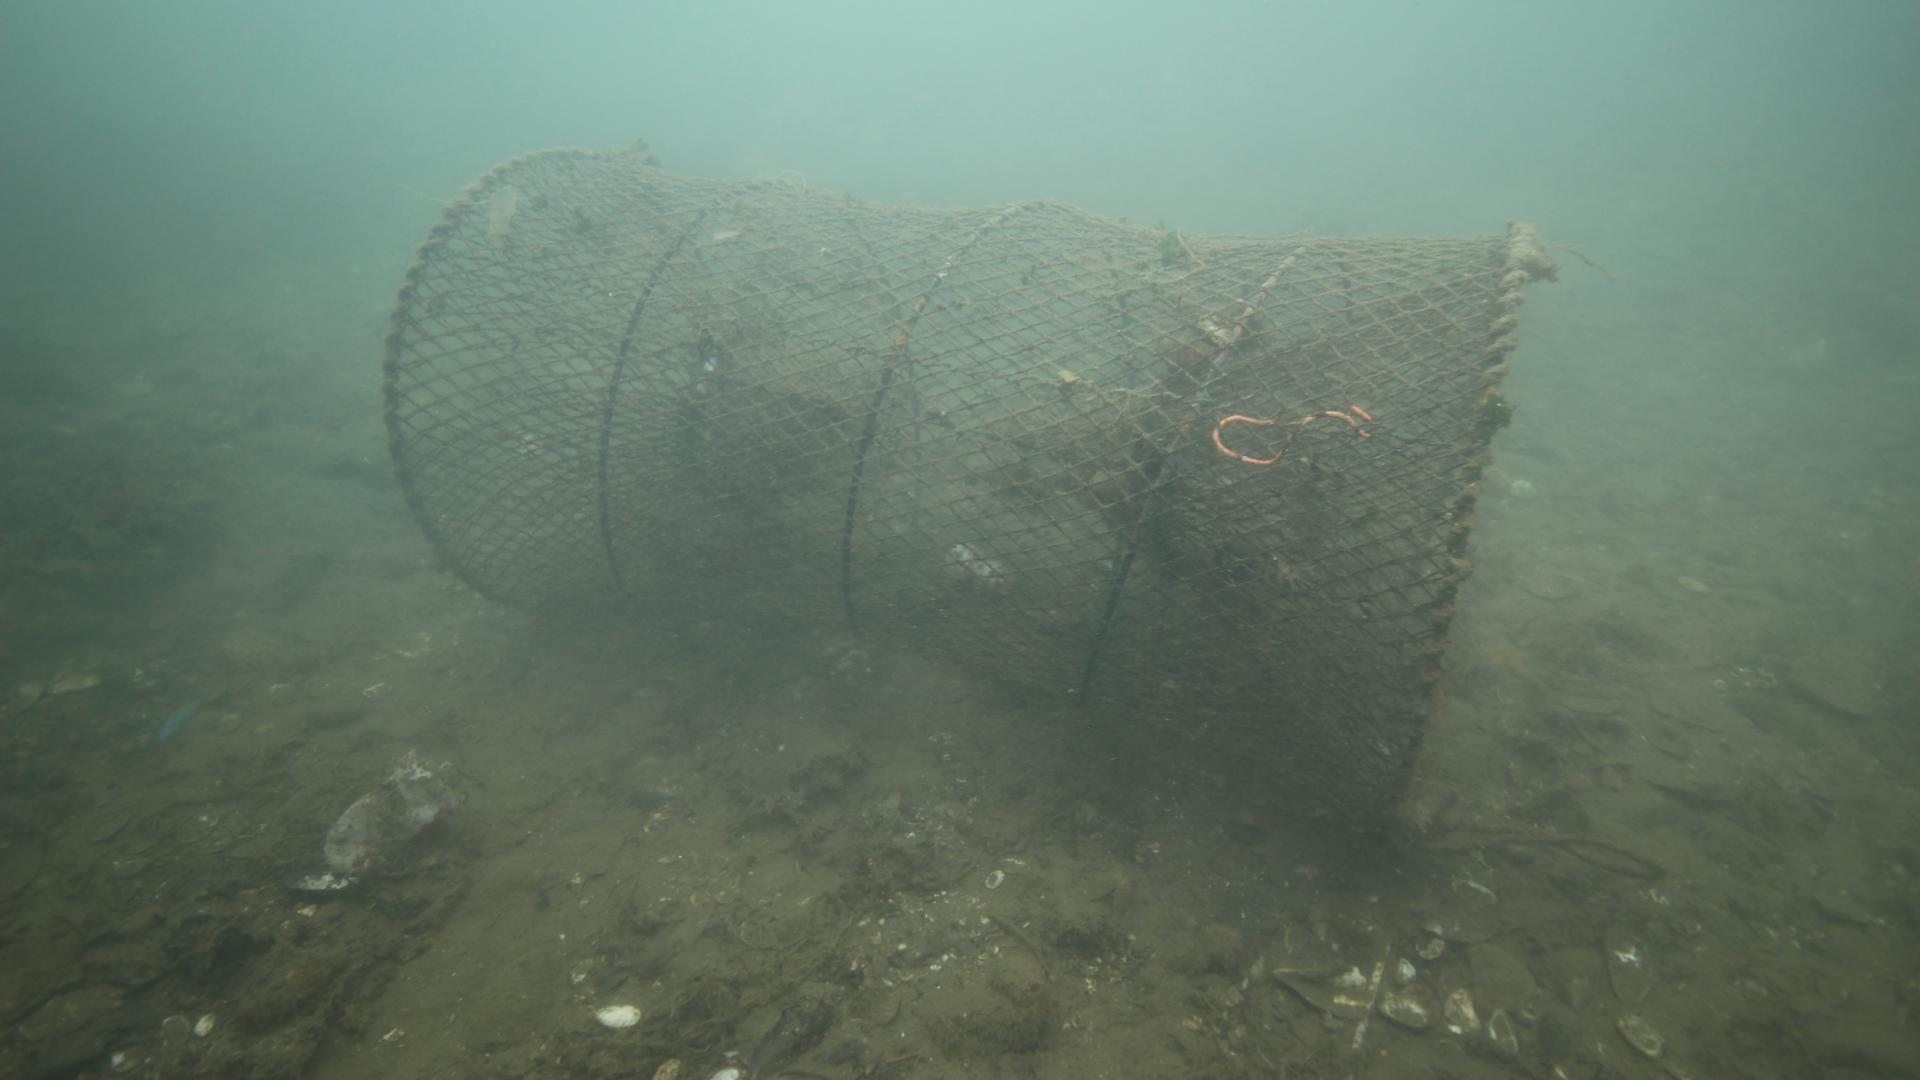spring fish trap: (375, 146, 1536, 837)
